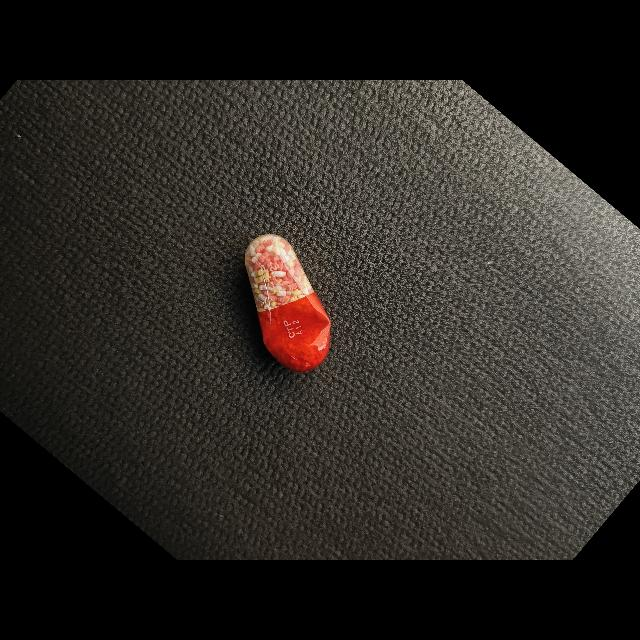Defective Capsule: (245, 234, 331, 372)
